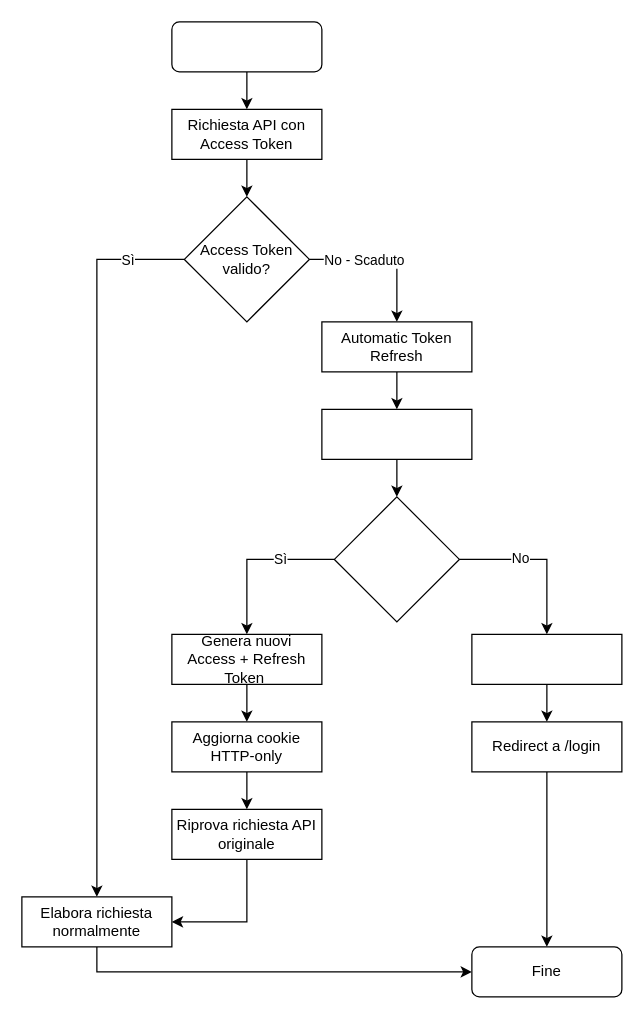
Image size: 644x1019. Some labels were removed from this diagram. The shapes that lost their labels are listed below. From the top down, each one's box as (x1, y1, x2, y2) in pixels, then its label:
(171, 21, 322, 72): Start
(321, 408, 472, 459): Estrazione Refresh Token da cookie HTTP only
(333, 496, 459, 622): Refresh Token valido?
(471, 633, 622, 684): Cancella stato sessione
